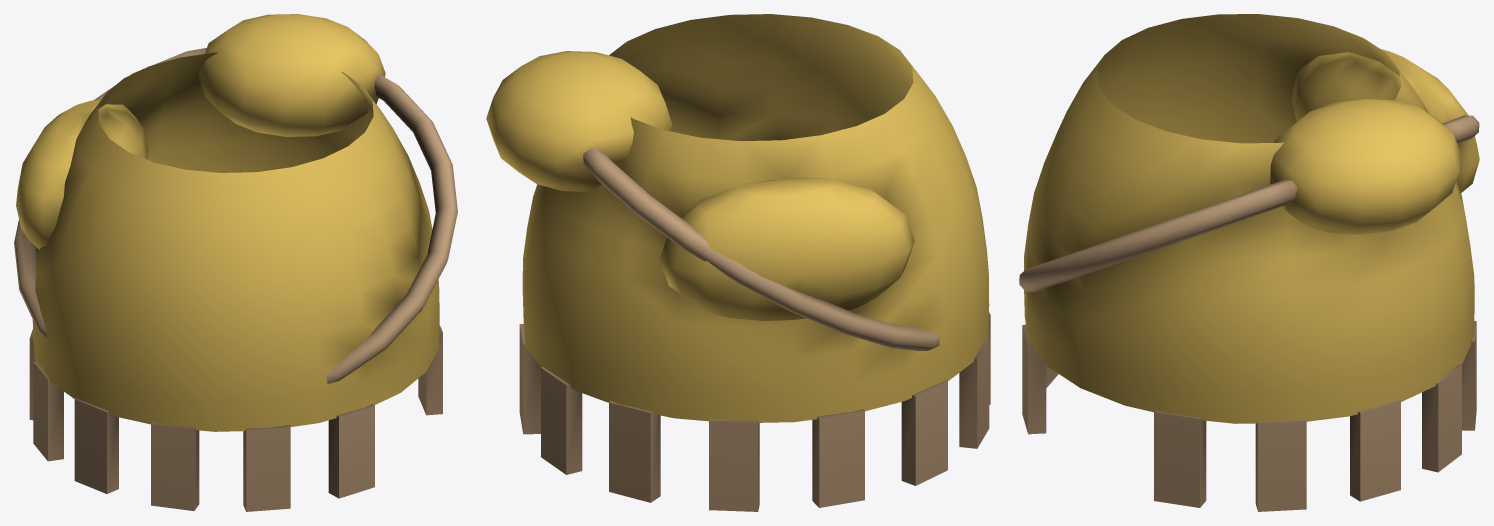
File: gladiator_chest.fbx
3 views of the same model, side by side, from view 1: azimuth 30°, elevation 25°; view 2: azimuth 150°, elevation 25°; view 3: azimuth 270°, elevation 25° (orthographic). The views are drawn at different scales.
Parts seen in each view (by area): view 1: gladiator_chest; view 2: gladiator_chest; view 3: gladiator_chest.
Part boxes in pixels (x1,y1,x2,y2): gladiator_chest: (14, 14, 457, 511); gladiator_chest: (486, 14, 990, 511); gladiator_chest: (1019, 14, 1479, 511).
Size of the model in its own units: 1.5 by 1.3 by 1.5.
